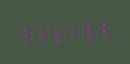eight: (82, 18, 97, 41)
four: (66, 19, 81, 42)
nine: (17, 23, 32, 46), (98, 17, 113, 40)
six: (50, 21, 65, 43)
three: (33, 22, 48, 45)
